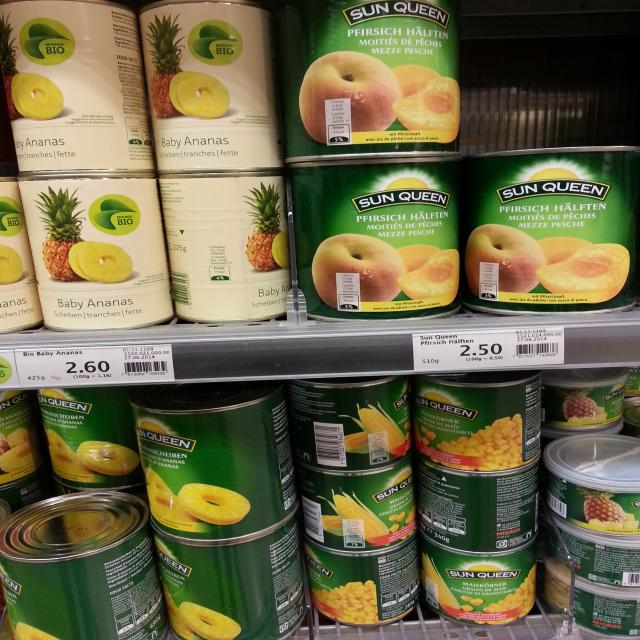Canned: (463, 143, 640, 320), (272, 0, 465, 160), (286, 157, 468, 326), (0, 0, 158, 178), (116, 391, 302, 542), (19, 165, 177, 335), (135, 0, 288, 175), (0, 482, 164, 640), (152, 167, 294, 323), (136, 517, 306, 640), (411, 374, 547, 476), (297, 525, 430, 627), (411, 463, 554, 555), (284, 463, 416, 560), (411, 530, 542, 626), (285, 378, 418, 472)
